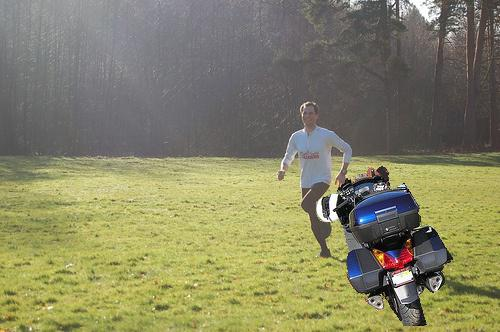tampered: (317, 167, 453, 326)
